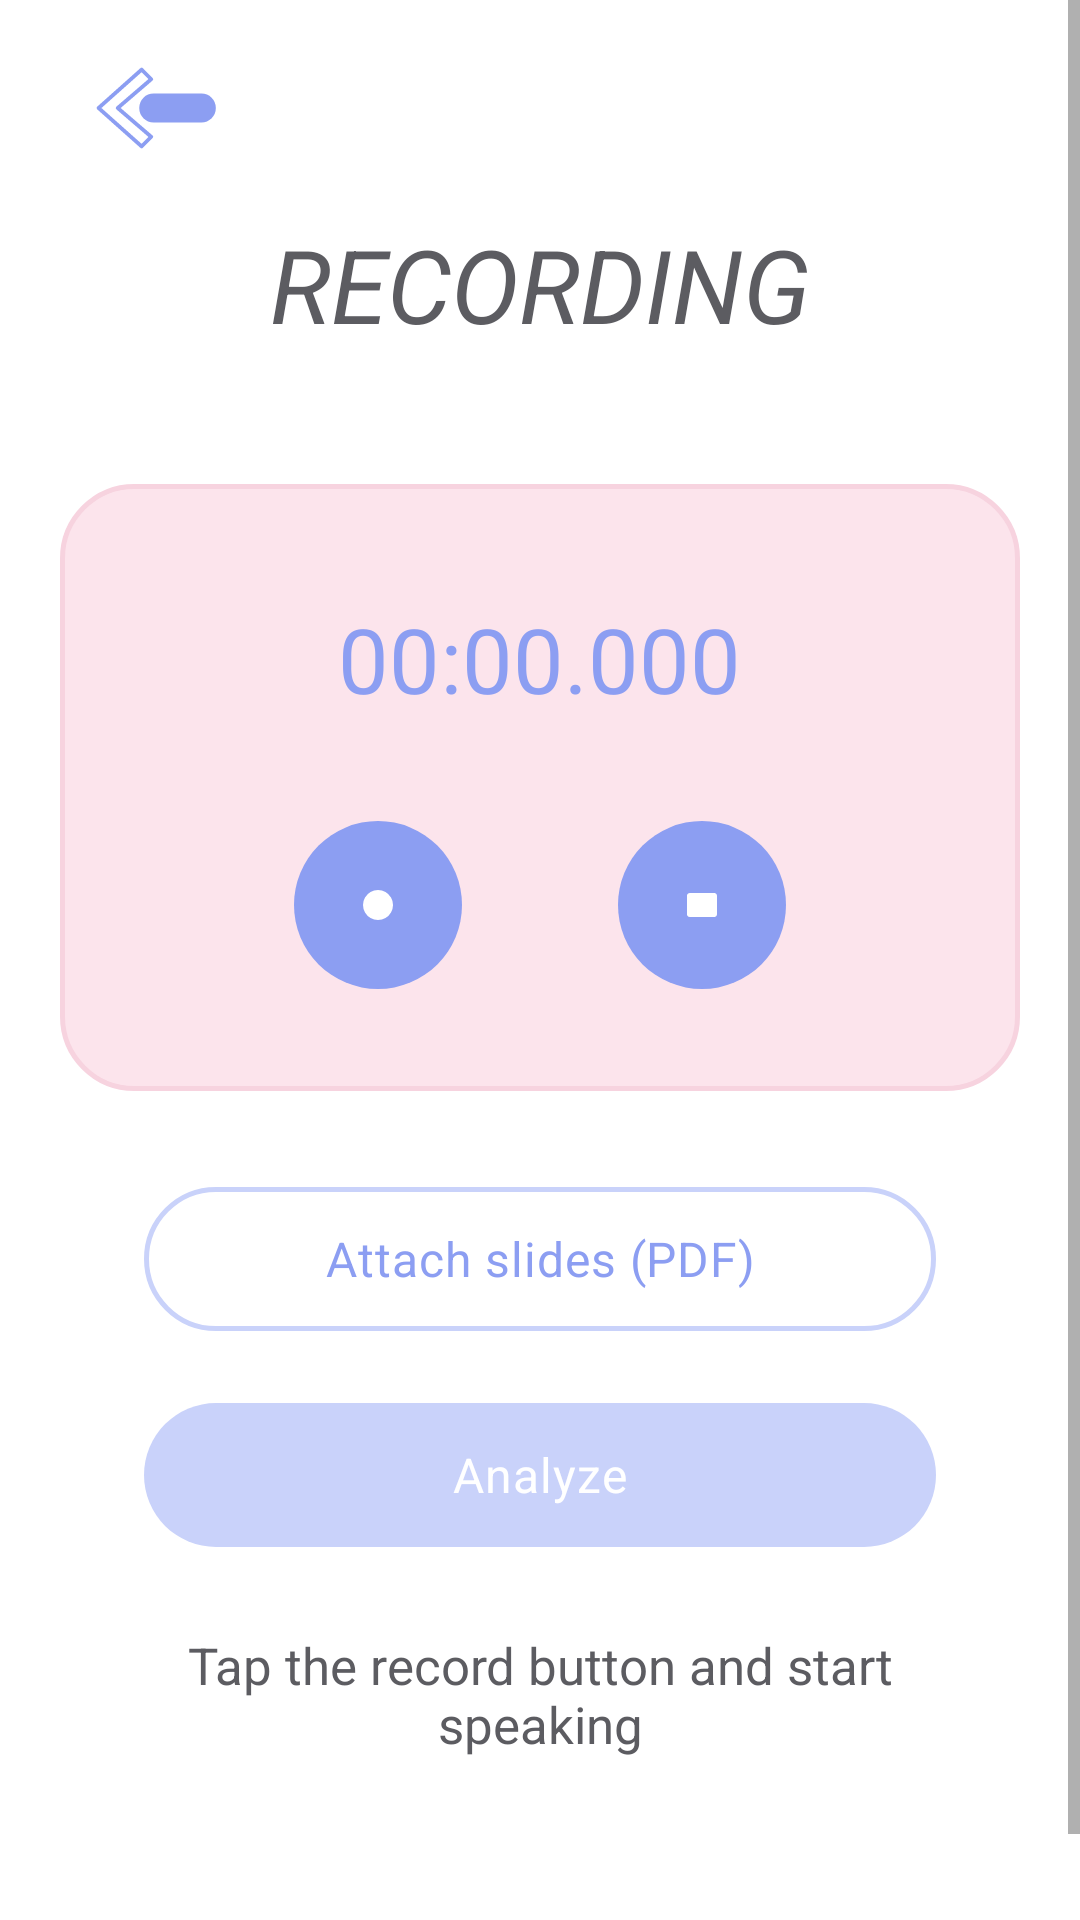

Named icons in this screenshot (1080px×1920px) and their bounding boxes, (x1, y1, x2, y2):
Back: (96, 67, 216, 149)
Start recording: (294, 821, 462, 989)
Stop recording: (618, 821, 786, 989)
